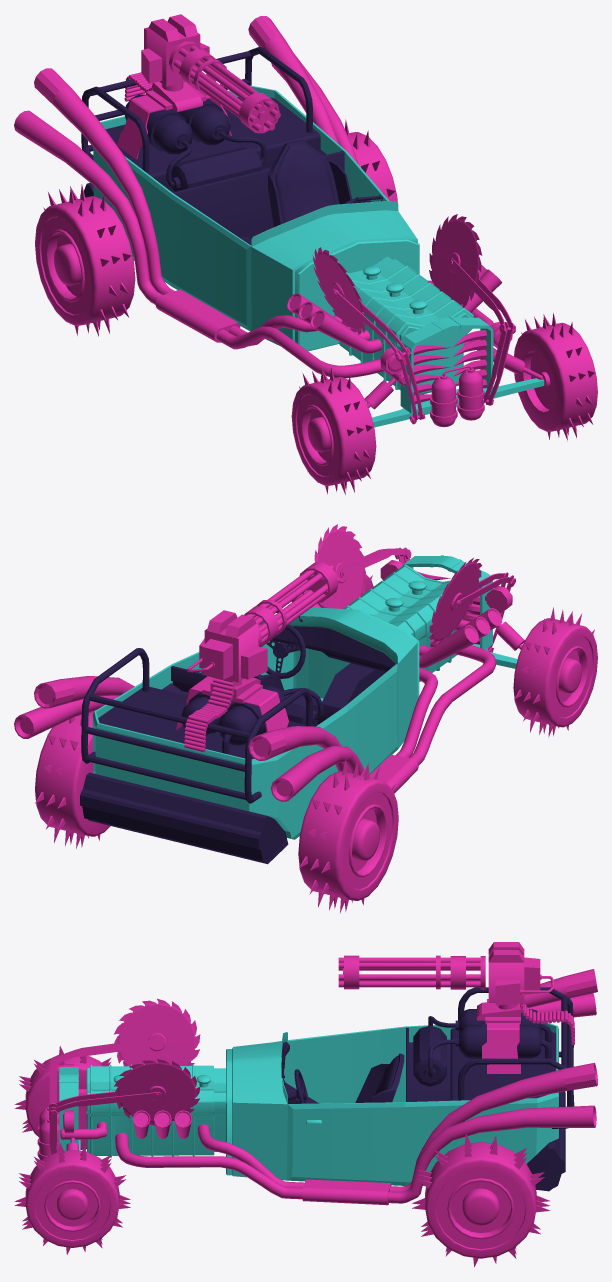
The model's file is Mad Race_Car_Real_Real_Real_Finish.fbx.
The picture shows the model from 3 angles, top to bottom: view 1: azimuth 30°, elevation 25°; view 2: azimuth 150°, elevation 25°; view 3: azimuth 270°, elevation 25°; orthographic projection. The views are drawn at different scales.
Parts seen in each view (by area): view 1: Car_body, Vent_Pipe (×3), Wheel_03, Weapon_Gun (×4), Weapon_Saw (×6), Decoration (×6), Car_Interior (×2), Wheel_01, Wheel_02, Car_Engine, Seat, Car_Frame (+5 smaller); view 2: Car_body, Vent_Pipe (×3), Weapon_Gun (×5), Wheel_03, Battery box, Wheel_01, Weapon_Saw (×4), Wheel_04, Frame (×4), Car_Interior (×2), Car_Engine, Dashboard (+7 smaller); view 3: Car_body, Vent_Pipe (×2), Wheel_04, Weapon_Gun (×5), Weapon_Saw (×4), Wheel_02, Car_Engine, Decoration (×3), Car_Interior, Wheel_01, Battery box, Seat (+5 smaller).
Part boxes in pixels (x1,y1,x2,y2): Car_body: (93,85,419,351); Vent_Pipe (×3): (14,16,493,378); Wheel_03: (35,184,135,336); Weapon_Gun (×4): (117,14,280,159); Weapon_Saw (×6): (312,214,515,424); Decoration (×6): (171,98,486,427); Car_Interior (×2): (105,97,344,238); Wheel_01: (291,367,376,494); Wheel_02: (514,313,597,441); Car_Engine: (334,256,473,395); Seat: (268,139,351,227); Car_Frame: (400,317,493,413); Car_body: (92,607,419,839); Vent_Pipe (×3): (14,625,496,801); Weapon_Gun (×5): (176,562,339,752); Wheel_03: (298,758,398,913); Battery box: (80,772,288,864); Wheel_01: (513,607,597,736); Weapon_Saw (×4): (314,524,515,644); Wheel_04: (35,710,110,848); Frame (×4): (81,648,249,799); Car_Interior (×2): (98,666,342,759); Car_Engine: (343,564,472,681); Dashboard: (272,626,395,672); Car_body: (226,1022,558,1185); Vent_Pipe (×2): (115,969,597,1205); Wheel_04: (412,1133,550,1266); Weapon_Gun (×5): (338,942,574,1073); Weapon_Saw (×4): (49,998,200,1125); Wheel_02: (14,1143,130,1254); Car_Engine: (86,1064,225,1157); Decoration (×3): (37,1022,541,1160); Car_Interior: (409,1028,556,1101); Wheel_01: (14,1046,111,1149); Battery box: (527,1091,565,1191); Seat: (355,1053,404,1102).
Bounding box in the file's own units: 235 × 198 × 429.
